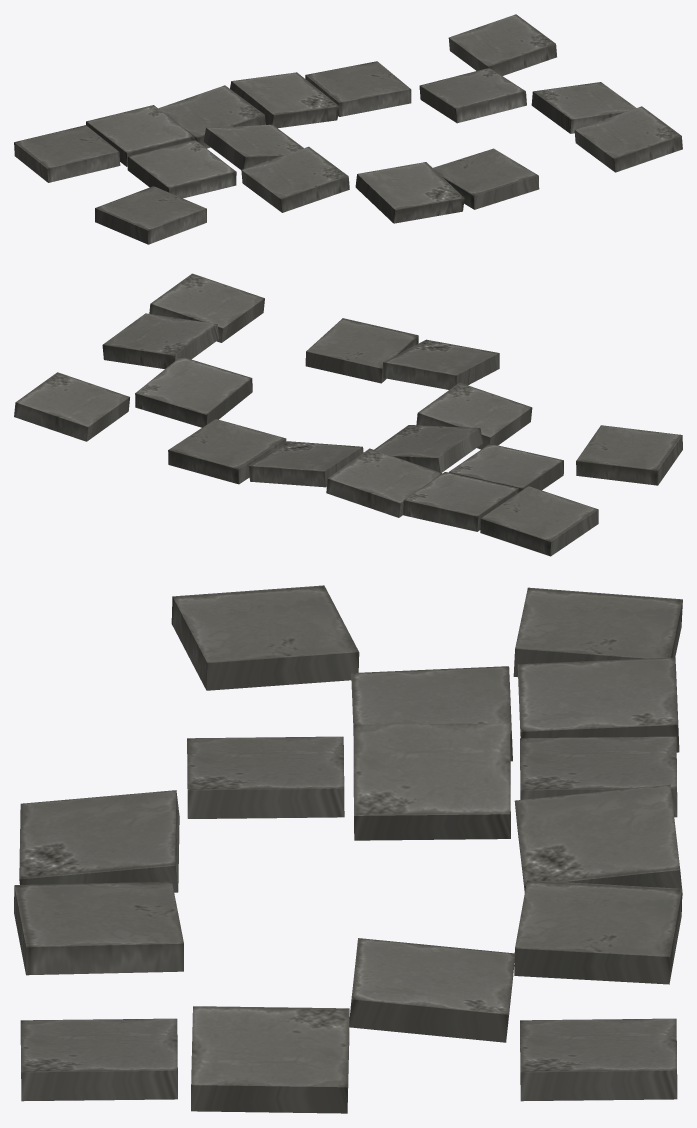
The model's file is prop_dungeonEntrance_floor.FBX.
The picture shows the model from 3 angles, top to bottom: view 1: azimuth 30°, elevation 25°; view 2: azimuth 150°, elevation 25°; view 3: azimuth 270°, elevation 25°; orthographic projection. The views are drawn at different scales.
Visible parts, largest first — view 1: prop_dungeonEntrance_floor; view 2: prop_dungeonEntrance_floor; view 3: prop_dungeonEntrance_floor.
Part boxes in pixels (bbox=[...]): prop_dungeonEntrance_floor: bbox=[14, 14, 682, 244]; prop_dungeonEntrance_floor: bbox=[14, 273, 682, 556]; prop_dungeonEntrance_floor: bbox=[14, 585, 682, 1113].
Bounding box in the file's own units: 7.55 × 0.4196 × 4.3.
